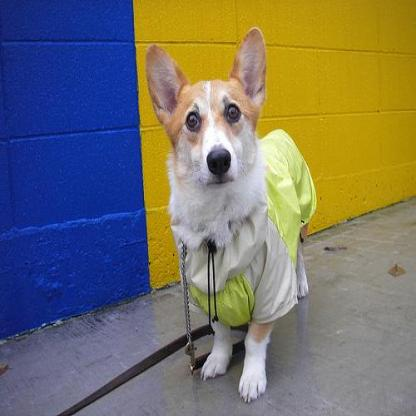Pembroke: (144, 22, 318, 406)
